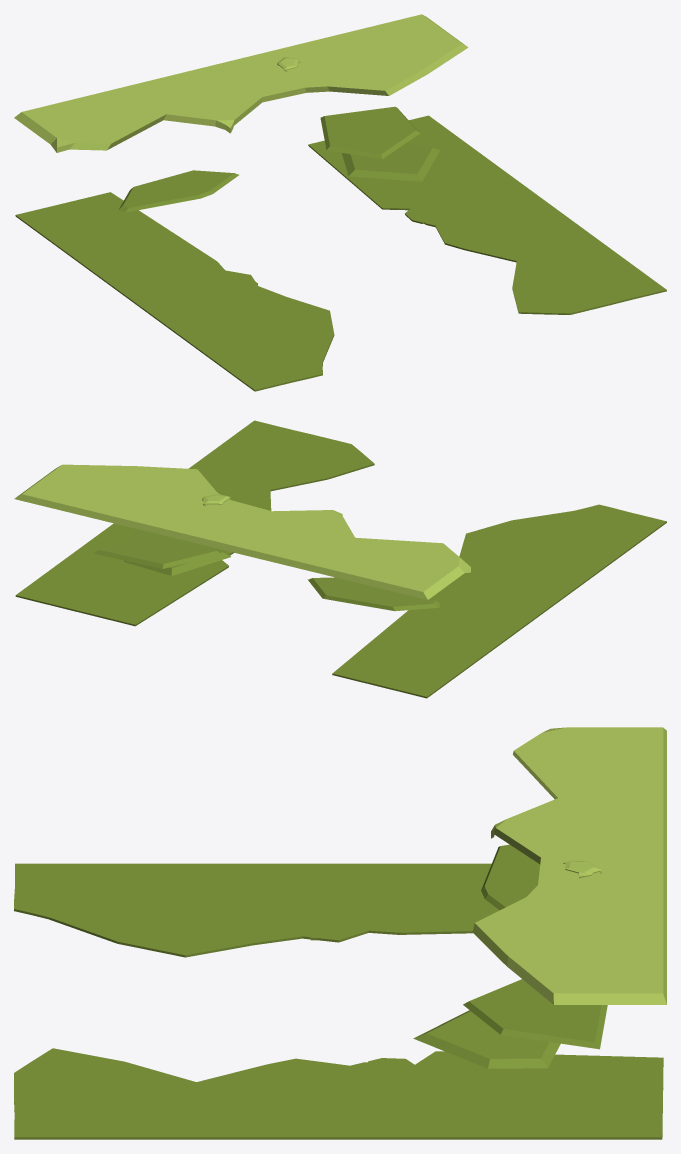
File: grasses-v1.glb
3 views of the same model, one above another, from view 1: azimuth 30°, elevation 25°; view 2: azimuth 150°, elevation 25°; view 3: azimuth 270°, elevation 25° (orthographic). The views are drawn at different scales.
Visible parts, largest first — view 1: ground_grass, grass, grass.002, grass.001, grass.003; view 2: ground_grass, grass, grass.002, grass.001, grass.003; view 3: ground_grass, grass, grass.002, grass.003, grass.001.
Part boxes in pixels (x1,y1,x2,y2): ground_grass: [15, 115, 666, 391]; grass: [14, 14, 468, 152]; grass.002: [320, 106, 420, 159]; grass.001: [118, 170, 238, 212]; grass.003: [342, 143, 439, 181]; ground_grass: [15, 420, 666, 698]; grass: [14, 464, 470, 599]; grass.002: [94, 529, 221, 568]; grass.001: [308, 577, 440, 611]; grass.003: [124, 549, 230, 575]; ground_grass: [14, 863, 663, 1139]; grass: [472, 727, 666, 1004]; grass.002: [463, 979, 607, 1049]; grass.003: [413, 1010, 560, 1068]; grass.001: [481, 844, 539, 910].
Size of the model in its own units: 4.39 by 1.2 by 4.42.
